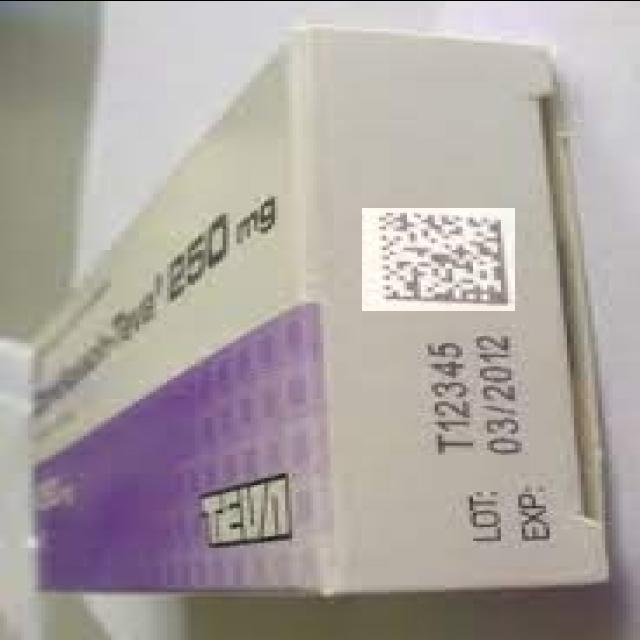Data-Matrix: (362, 207, 515, 310)
